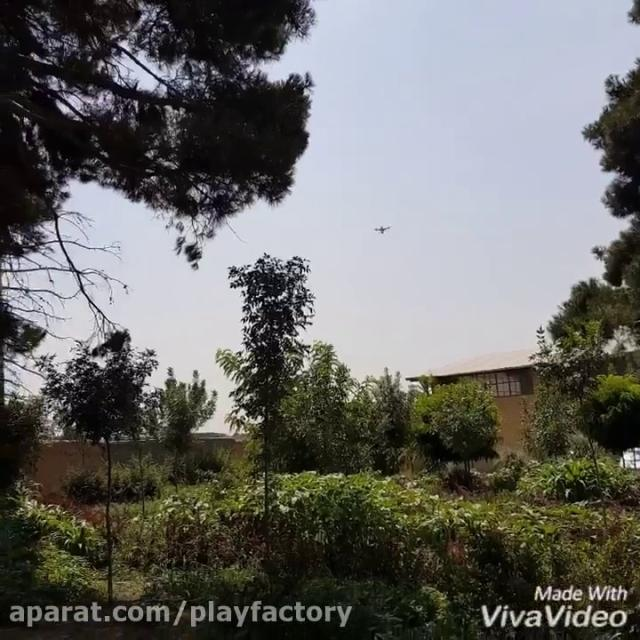drone: (371, 220, 392, 237)
